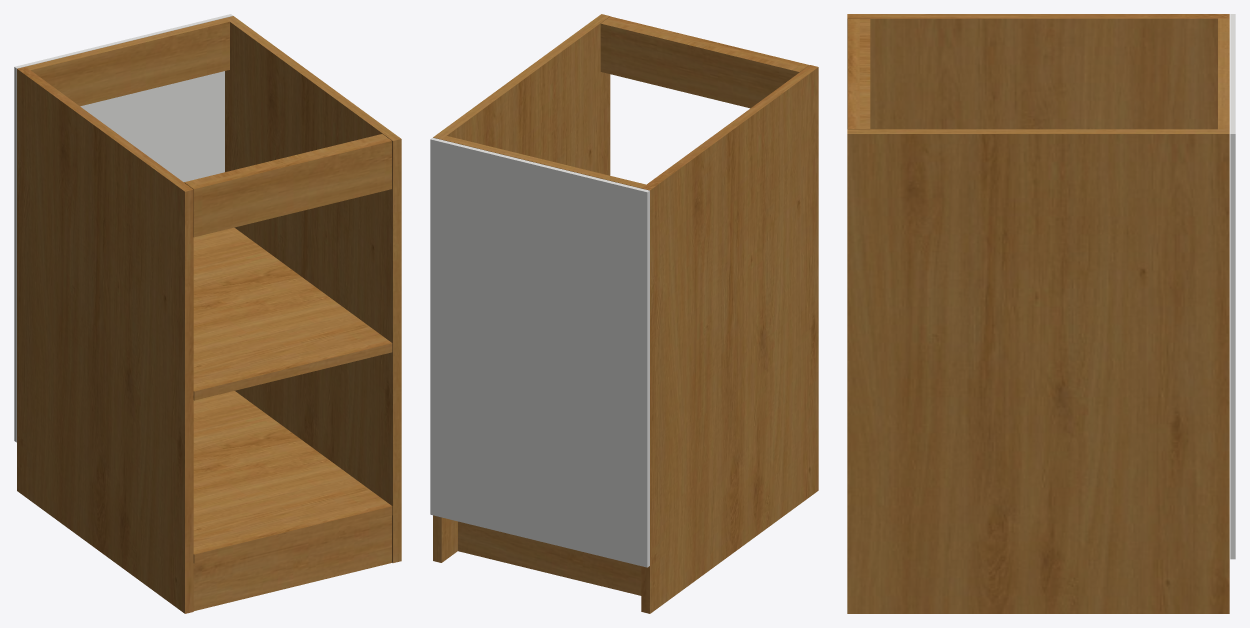
Rendered from modul3group.glb.
The picture shows the model from 3 angles, left to right: view 1: azimuth 30°, elevation 25°; view 2: azimuth 150°, elevation 25°; view 3: azimuth 270°, elevation 25°; orthographic projection. The views are drawn at different scales.
Visible parts, largest first — view 1: 29926, 29924, 29750, Root Node; view 2: 29926, 29750, 29924, Root Node; view 3: 29926, 29750, 29924, Root Node.
Boxes of the visible parts, bbox=[...] form: 29926: bbox=[17, 16, 401, 613]; 29924: bbox=[26, 18, 392, 610]; 29750: bbox=[14, 14, 232, 442]; Root Node: bbox=[189, 137, 391, 236]; 29926: bbox=[433, 14, 818, 613]; 29750: bbox=[430, 137, 649, 567]; 29924: bbox=[441, 20, 804, 595]; Root Node: bbox=[606, 16, 809, 68]; 29926: bbox=[847, 14, 1229, 613]; 29750: bbox=[1230, 14, 1235, 559]; 29924: bbox=[859, 18, 1229, 129]; Root Node: bbox=[848, 19, 858, 129].
Size of the model in its own units: 0.424 by 0.79 by 0.579.
96 materials, 84 textured.
